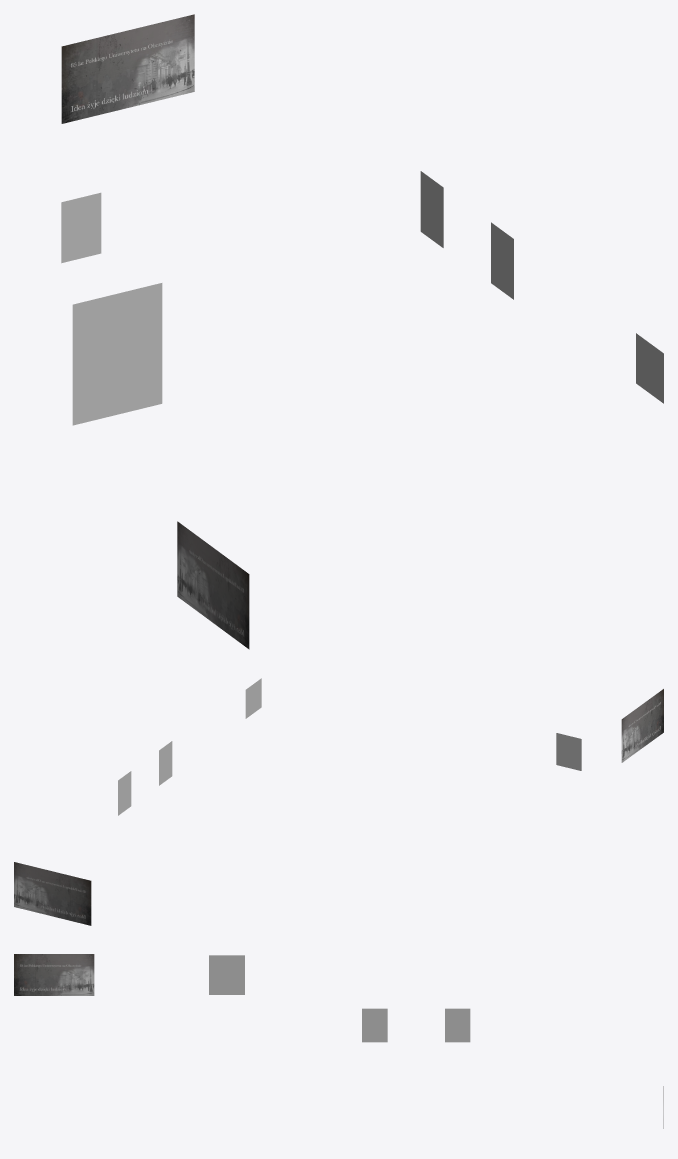
File: interactives_identity_testowe.glb
3 renders of one model, top to bottom at view 1: azimuth 30°, elevation 25°; view 2: azimuth 150°, elevation 25°; view 3: azimuth 270°, elevation 25°, orthographic. The views are drawn at different scales.
Parts seen in each view (by area): view 1: WielekEibejzyt, Heritage, Unreal, DreamerSpaceman, DreamerAura, Hidden, DreamerFlowerman; view 2: Heritage, Unreal, WilekSchizofrenia, Hidden, DreamerFlowerman, DreamerAura; view 3: Unreal, WielekPalec, DreamerStarman, DreamerPiotr.
Boxes of the visible parts, x1,y1,x2,y2 form: WielekEibejzyt: (72,283,162,425); Heritage: (61,14,194,123); Unreal: (177,521,249,649); DreamerSpaceman: (61,192,101,263); DreamerAura: (420,171,443,247); Hidden: (636,333,663,403); DreamerFlowerman: (491,222,513,299); Heritage: (14,862,91,925); Unreal: (621,689,663,762); WilekSchizofrenia: (556,733,581,770); Hidden: (245,678,261,718); DreamerFlowerman: (159,741,172,785); DreamerAura: (118,771,131,815); Unreal: (14,954,94,995); WielekPalec: (209,955,244,994); DreamerStarman: (362,1008,387,1042); DreamerPiotr: (445,1008,470,1042).
Size of the model in its own units: 8.72 by 1.82 by 15.89.
2 materials, 1 textured.
